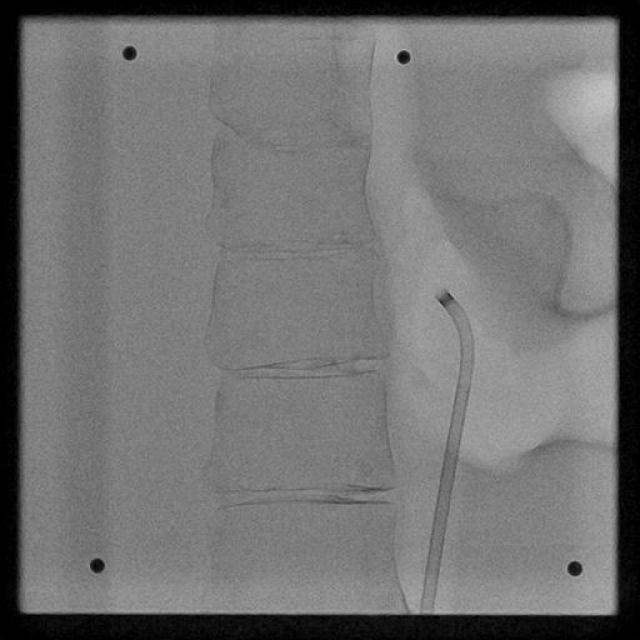bend: (456, 370, 473, 390)
entry: (418, 610, 434, 614)
marker: (439, 292, 455, 308)
tip: (435, 289, 447, 299)
